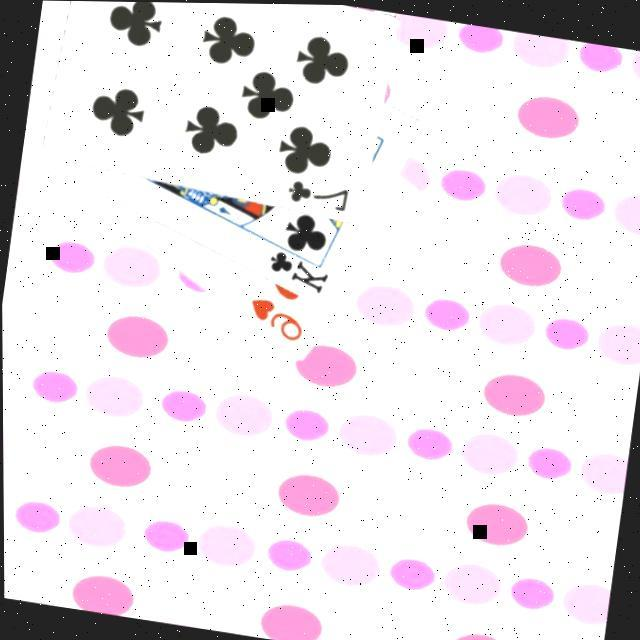7C: (284, 177, 354, 217)
9H: (243, 294, 311, 347)
KC: (262, 238, 336, 300)
